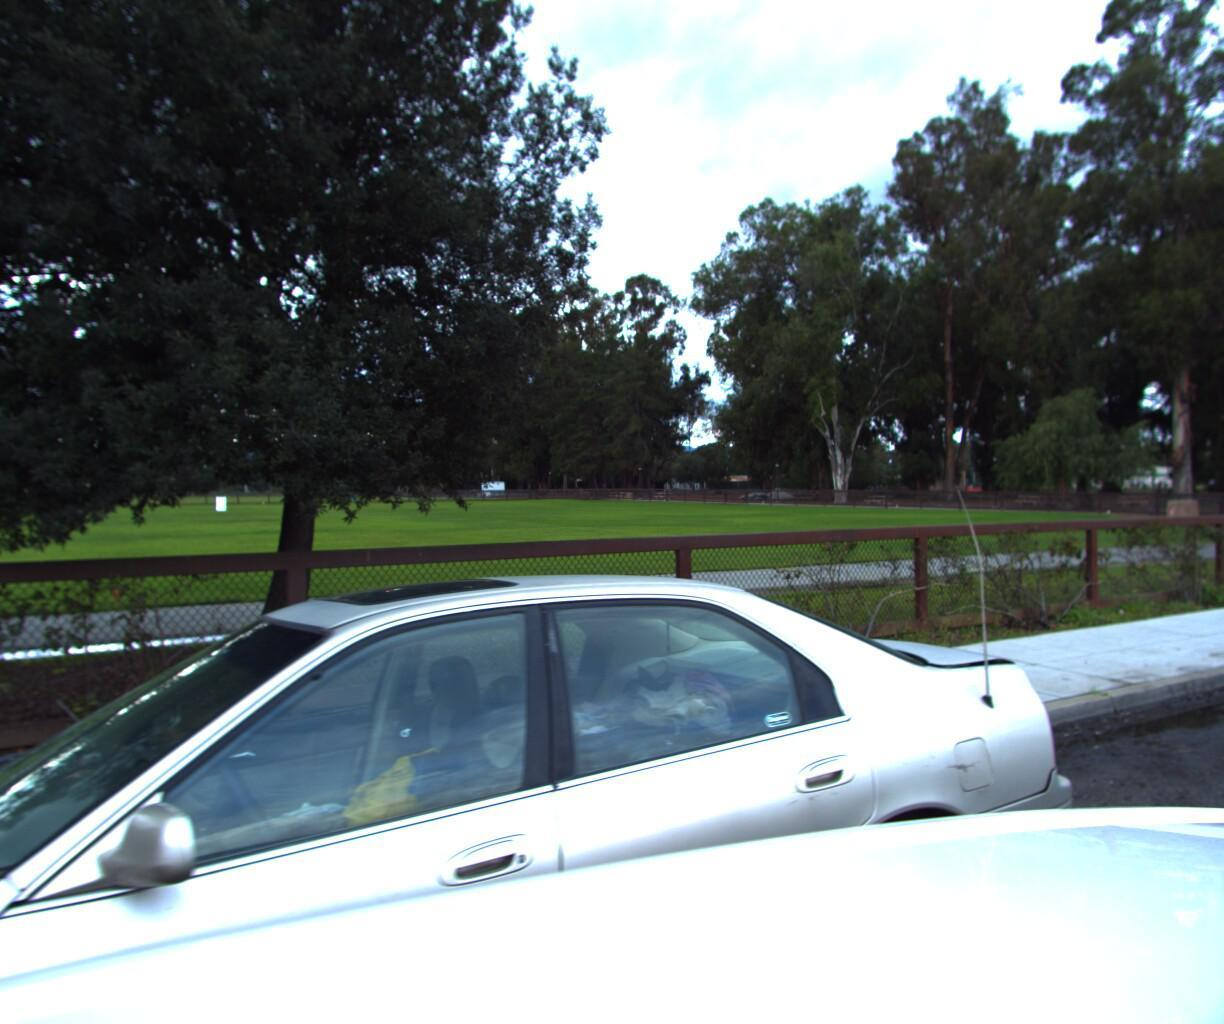car: (0, 539, 1167, 1024)
